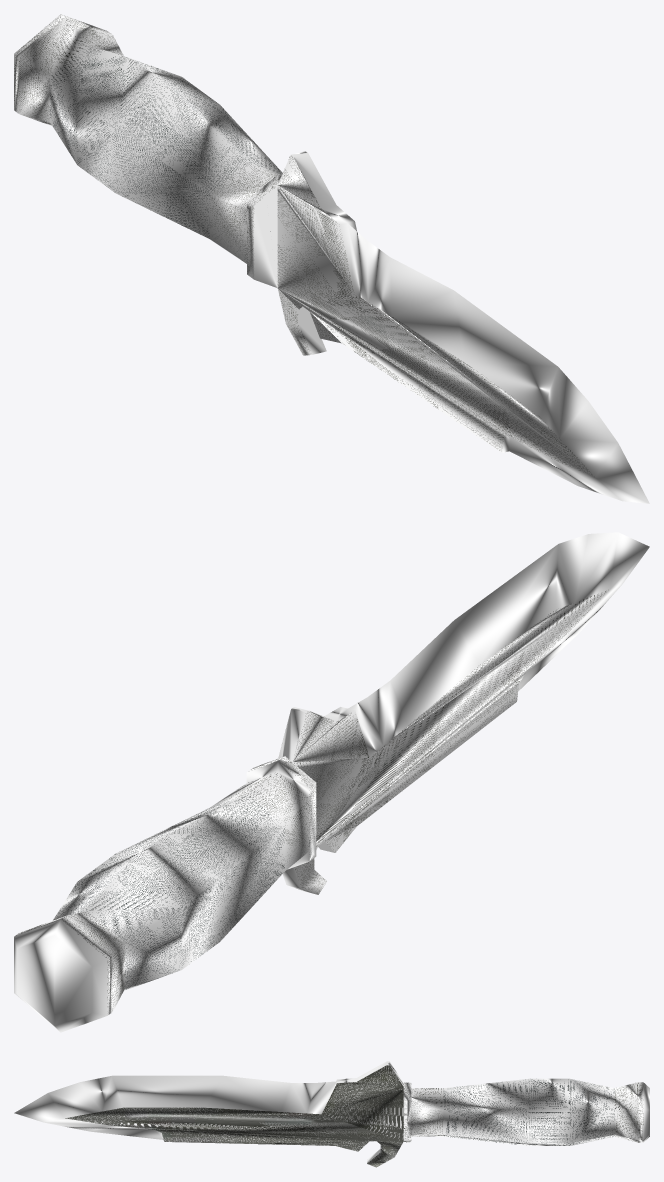
Rendered from model_align.obj.
The picture shows the model from 3 angles, top to bottom: view 1: azimuth 30°, elevation 25°; view 2: azimuth 150°, elevation 25°; view 3: azimuth 270°, elevation 25°; orthographic projection. The views are drawn at different scales.
Bounding box in the file's own units: 0.0213 × 0.0374 × 0.2106.
6 materials, 6 textured.
